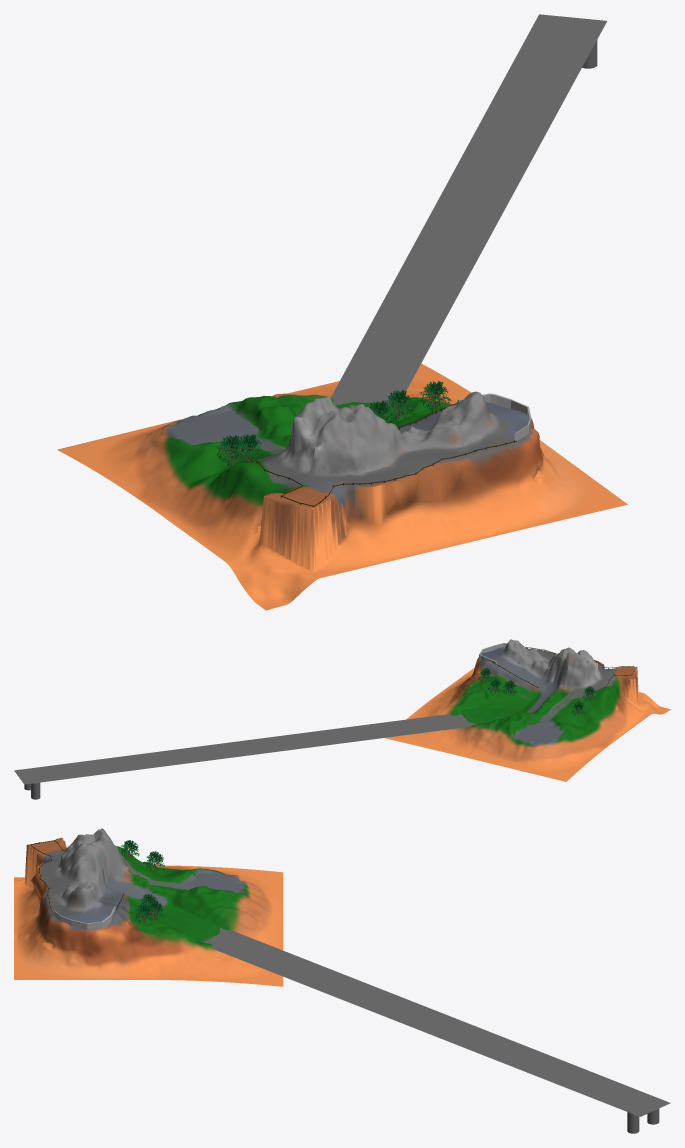
Rendered from island.glb.
3 views of the same model, one above another, from view 1: azimuth 30°, elevation 25°; view 2: azimuth 150°, elevation 25°; view 3: azimuth 270°, elevation 25° (orthographic). The views are drawn at different scales.
Parts seen in each view (by area): view 1: Landscape, runway; view 2: Landscape, runway; view 3: Landscape, runway.
Boxes of the visible parts, left/top/right/bottom form: Landscape: left=57, top=363, right=627, bottom=610; runway: left=331, top=14, right=606, bottom=405; Landscape: left=385, top=639, right=670, bottom=781; runway: left=14, top=714, right=476, bottom=799; Landscape: left=14, top=828, right=283, bottom=986; runway: left=204, top=928, right=670, bottom=1133.
Size of the model in its own units: 457 by 71.3 by 488.
Materials: 14 (1 with a texture image).
